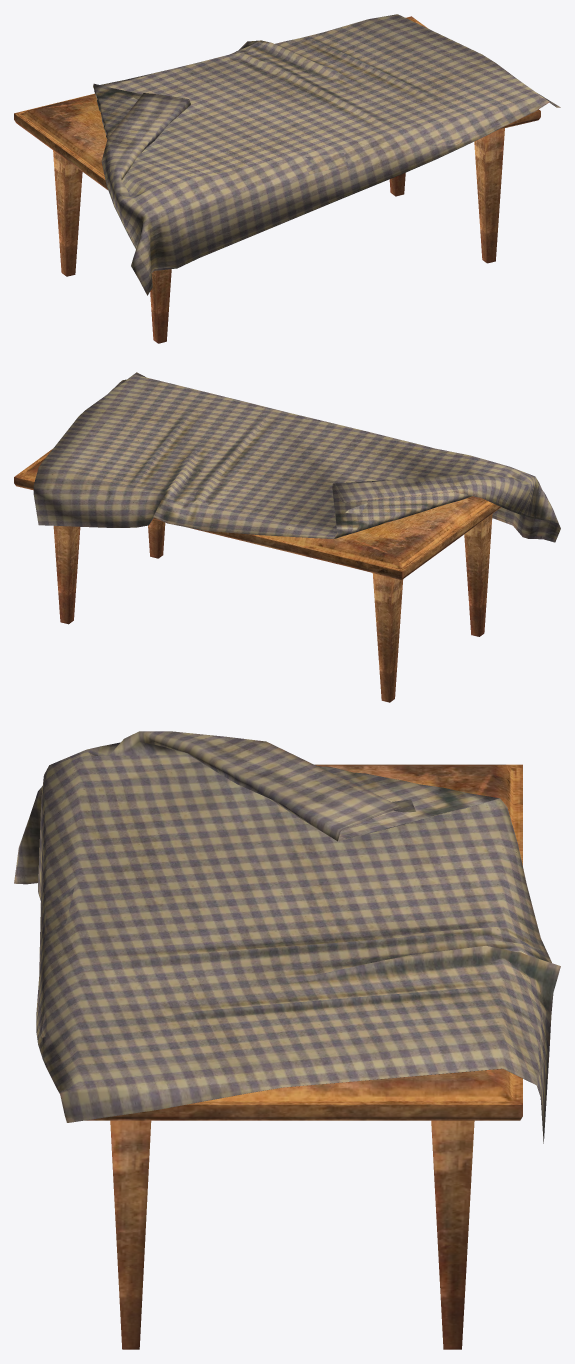
File: dining_table.glb
3 views of the same model, one above another, from view 1: azimuth 30°, elevation 25°; view 2: azimuth 150°, elevation 25°; view 3: azimuth 270°, elevation 25° (orthographic). The views are drawn at different scales.
Visible parts, largest first — view 1: dining_table; view 2: dining_table; view 3: dining_table.
Part boxes in pixels (x1,y1,x2,y2): dining_table: (14, 14, 560, 343); dining_table: (14, 372, 560, 702); dining_table: (14, 731, 560, 1349).
Size of the model in its own units: 2.26 by 0.8769 by 1.39.
Materials: 1 (1 with a texture image).
